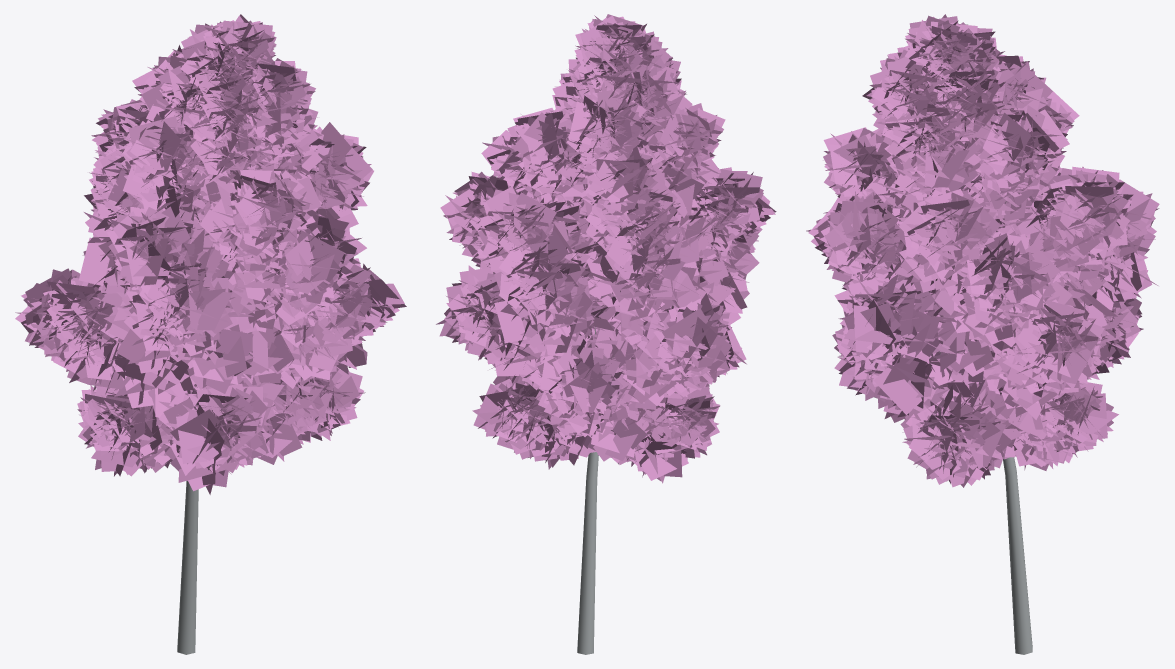
File: tree_tall.fbx
The picture shows the model from 3 angles, left to right: view 1: azimuth 30°, elevation 25°; view 2: azimuth 150°, elevation 25°; view 3: azimuth 270°, elevation 25°; orthographic projection. The views are drawn at different scales.
Visible parts, largest first — view 1: leaves.001, tree; view 2: leaves.001, tree; view 3: leaves.001, tree.
Boxes of the visible parts, left/top/right/bottom form: leaves.001: left=15, top=14, right=406, bottom=494; tree: left=110, top=209, right=264, bottom=654; leaves.001: left=436, top=14, right=776, bottom=483; tree: left=525, top=224, right=701, bottom=654; leaves.001: left=806, top=14, right=1159, bottom=487; tree: left=898, top=201, right=1086, bottom=654.
Bounding box in the file's own units: 7.47 × 14.57 × 7.4.
